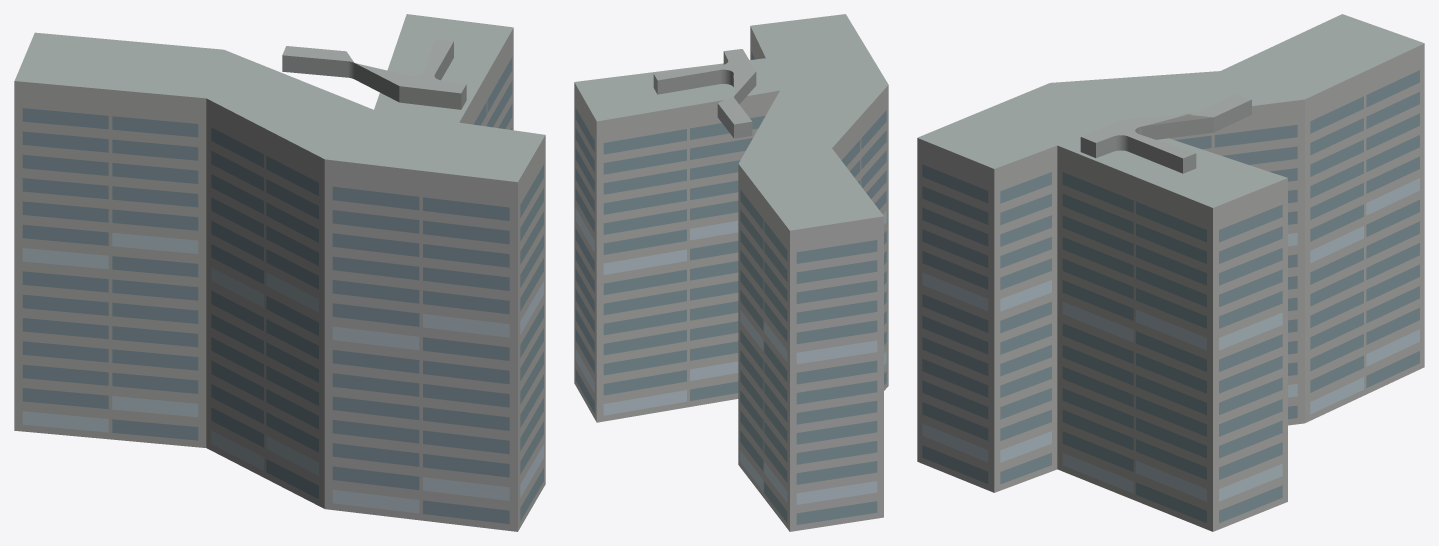
Rendered from apt-a10024811.glb.
3 renders of one model, left to right at view 1: azimuth 30°, elevation 25°; view 2: azimuth 150°, elevation 25°; view 3: azimuth 270°, elevation 25°, orthographic. The views are drawn at different scales.
Parts seen in each view (by area): view 1: apt-a10024811; view 2: apt-a10024811; view 3: apt-a10024811.
Part boxes in pixels (<box>): apt-a10024811: <box>14,14,545,531</box>; apt-a10024811: <box>574,14,888,531</box>; apt-a10024811: <box>917,14,1424,531</box>.
Bounding box in the file's own units: 49.09 × 40 × 54.26.
